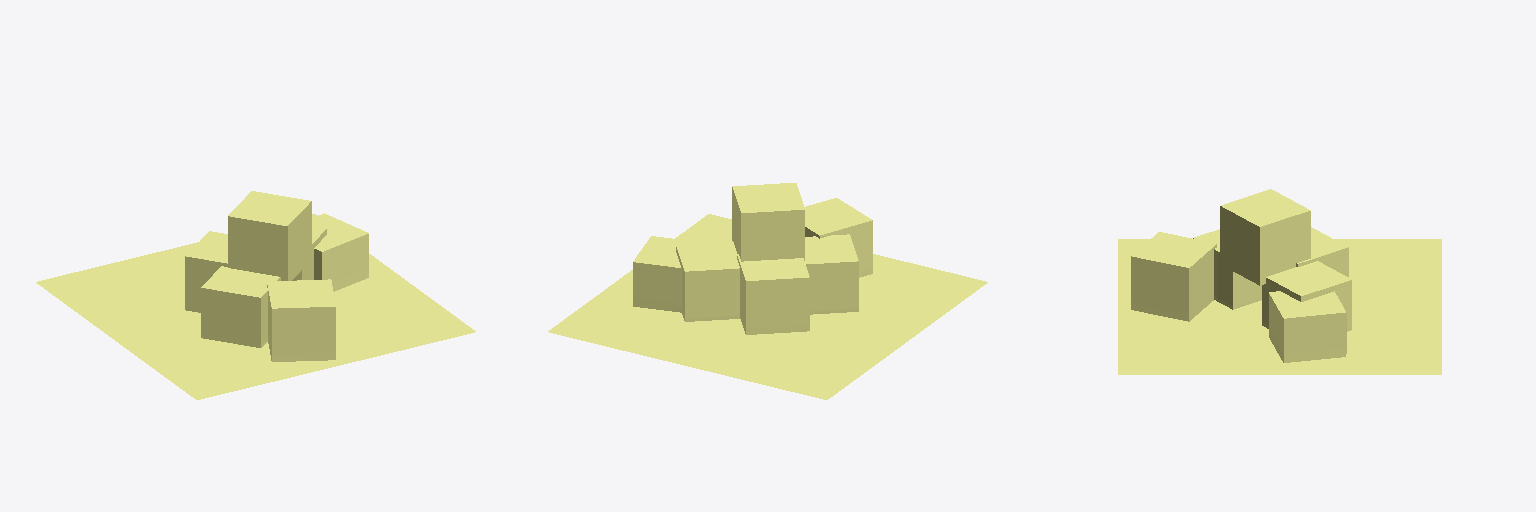
File: blocks.obj
3 views of the same model, side by side, from view 1: azimuth 30°, elevation 25°; view 2: azimuth 150°, elevation 25°; view 3: azimuth 270°, elevation 25° (orthographic).
Parts seen in each view (by area): view 1: blocks.obj; view 2: blocks.obj; view 3: blocks.obj.
Part boxes in pixels (bbox=[...]): blocks.obj: bbox=[36, 191, 475, 399]; blocks.obj: bbox=[548, 183, 987, 399]; blocks.obj: bbox=[1118, 189, 1441, 374].
Size of the model in its own units: 10 by 3.49 by 10.